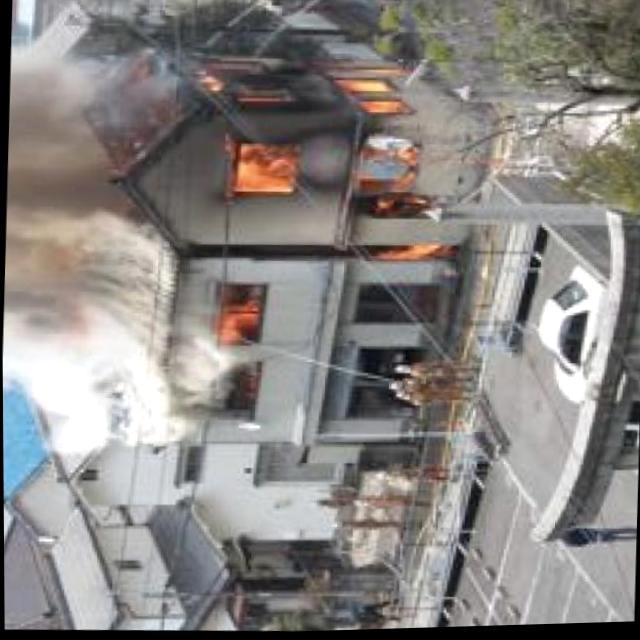fire: (176, 51, 454, 285), (208, 291, 266, 424)
